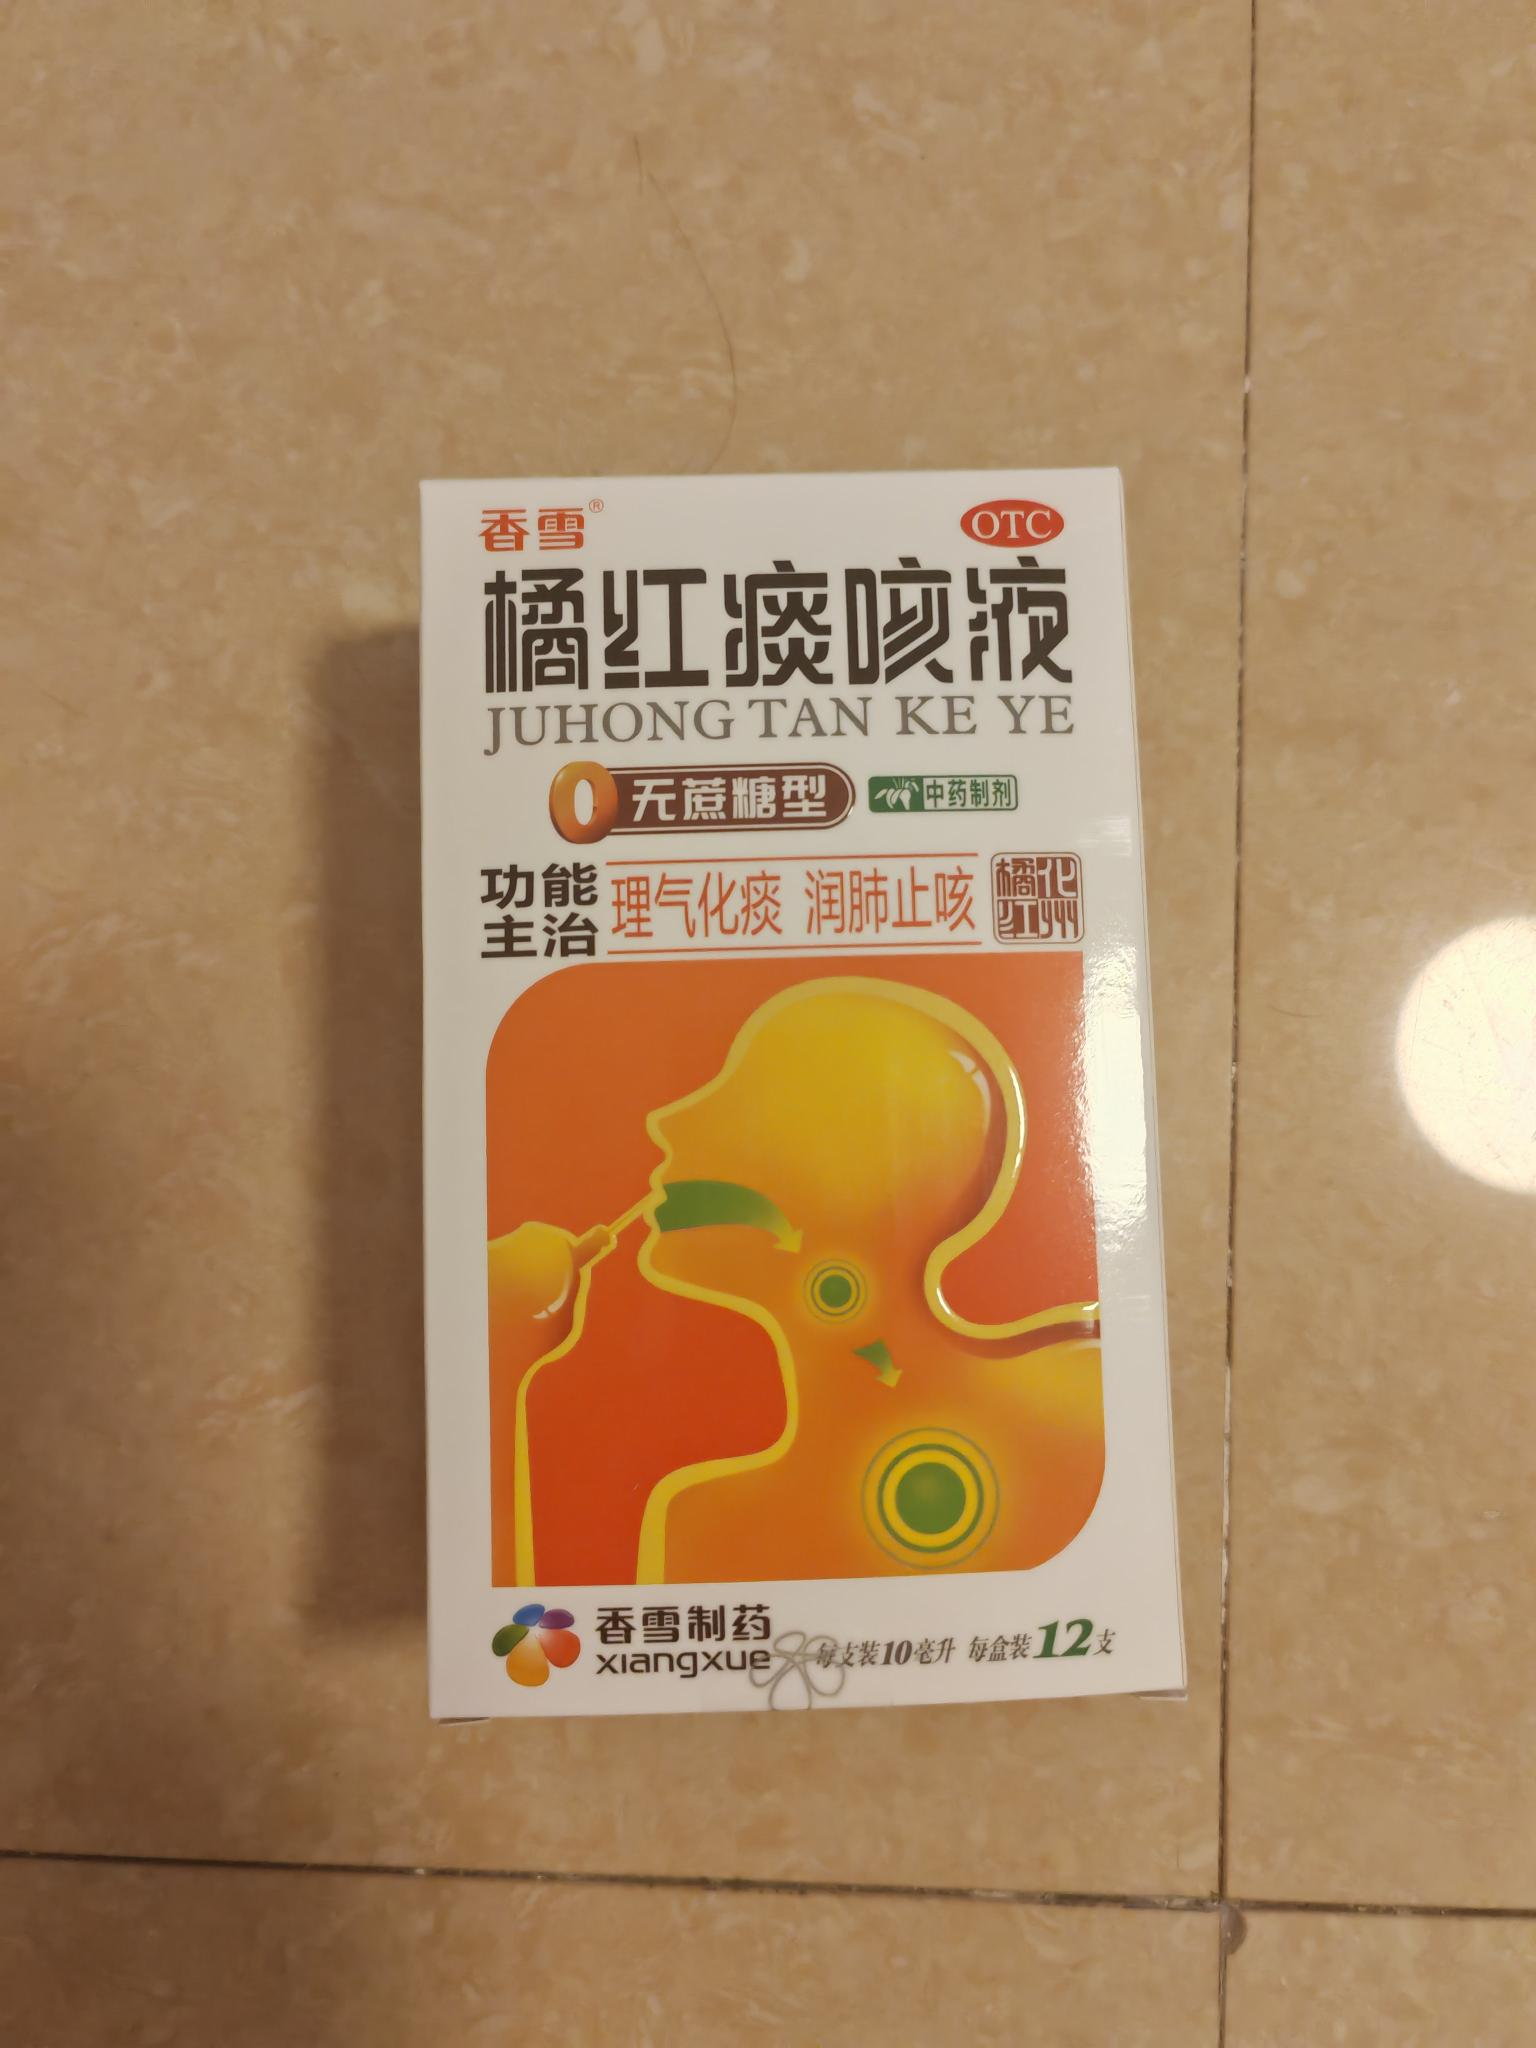Medicine1: (394, 443, 1205, 1734)
